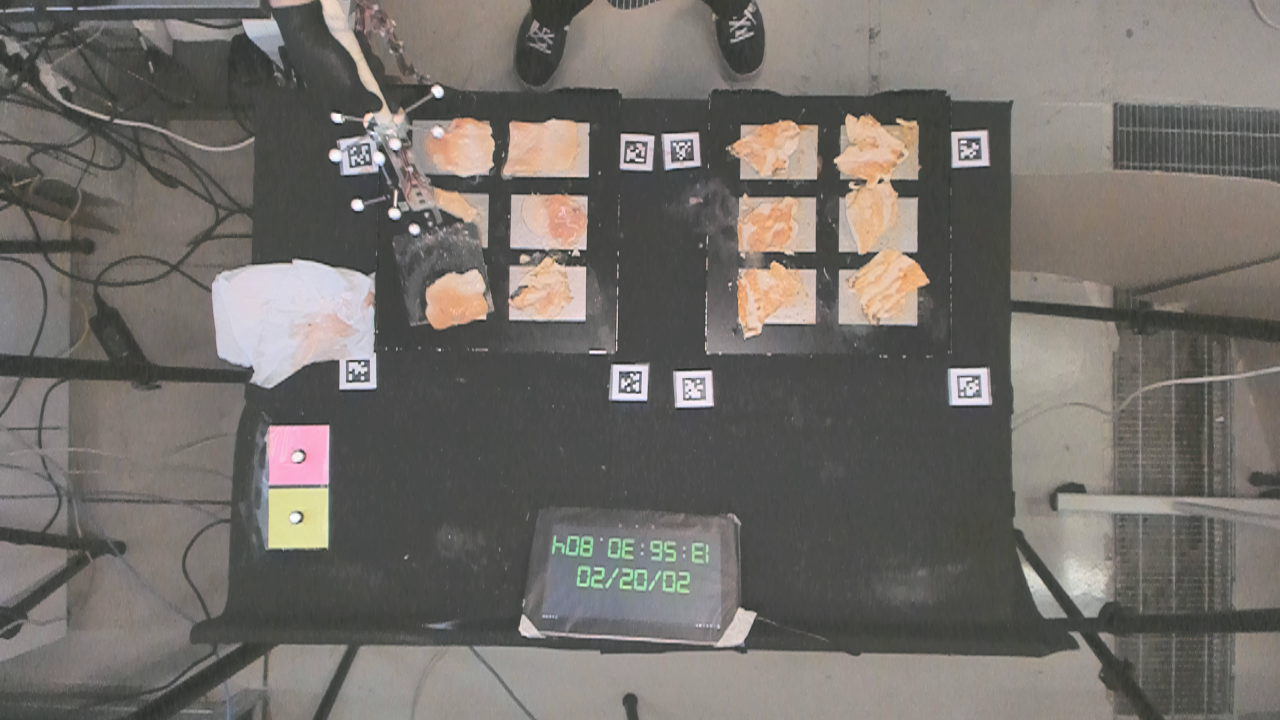chicken: (850, 244, 931, 323), (732, 258, 810, 337), (833, 109, 908, 184), (503, 116, 585, 179), (727, 117, 807, 175), (424, 113, 493, 176), (512, 252, 575, 318), (520, 189, 593, 245), (740, 195, 802, 259), (421, 272, 493, 327), (847, 181, 899, 255)
marker: (268, 422, 329, 486)
